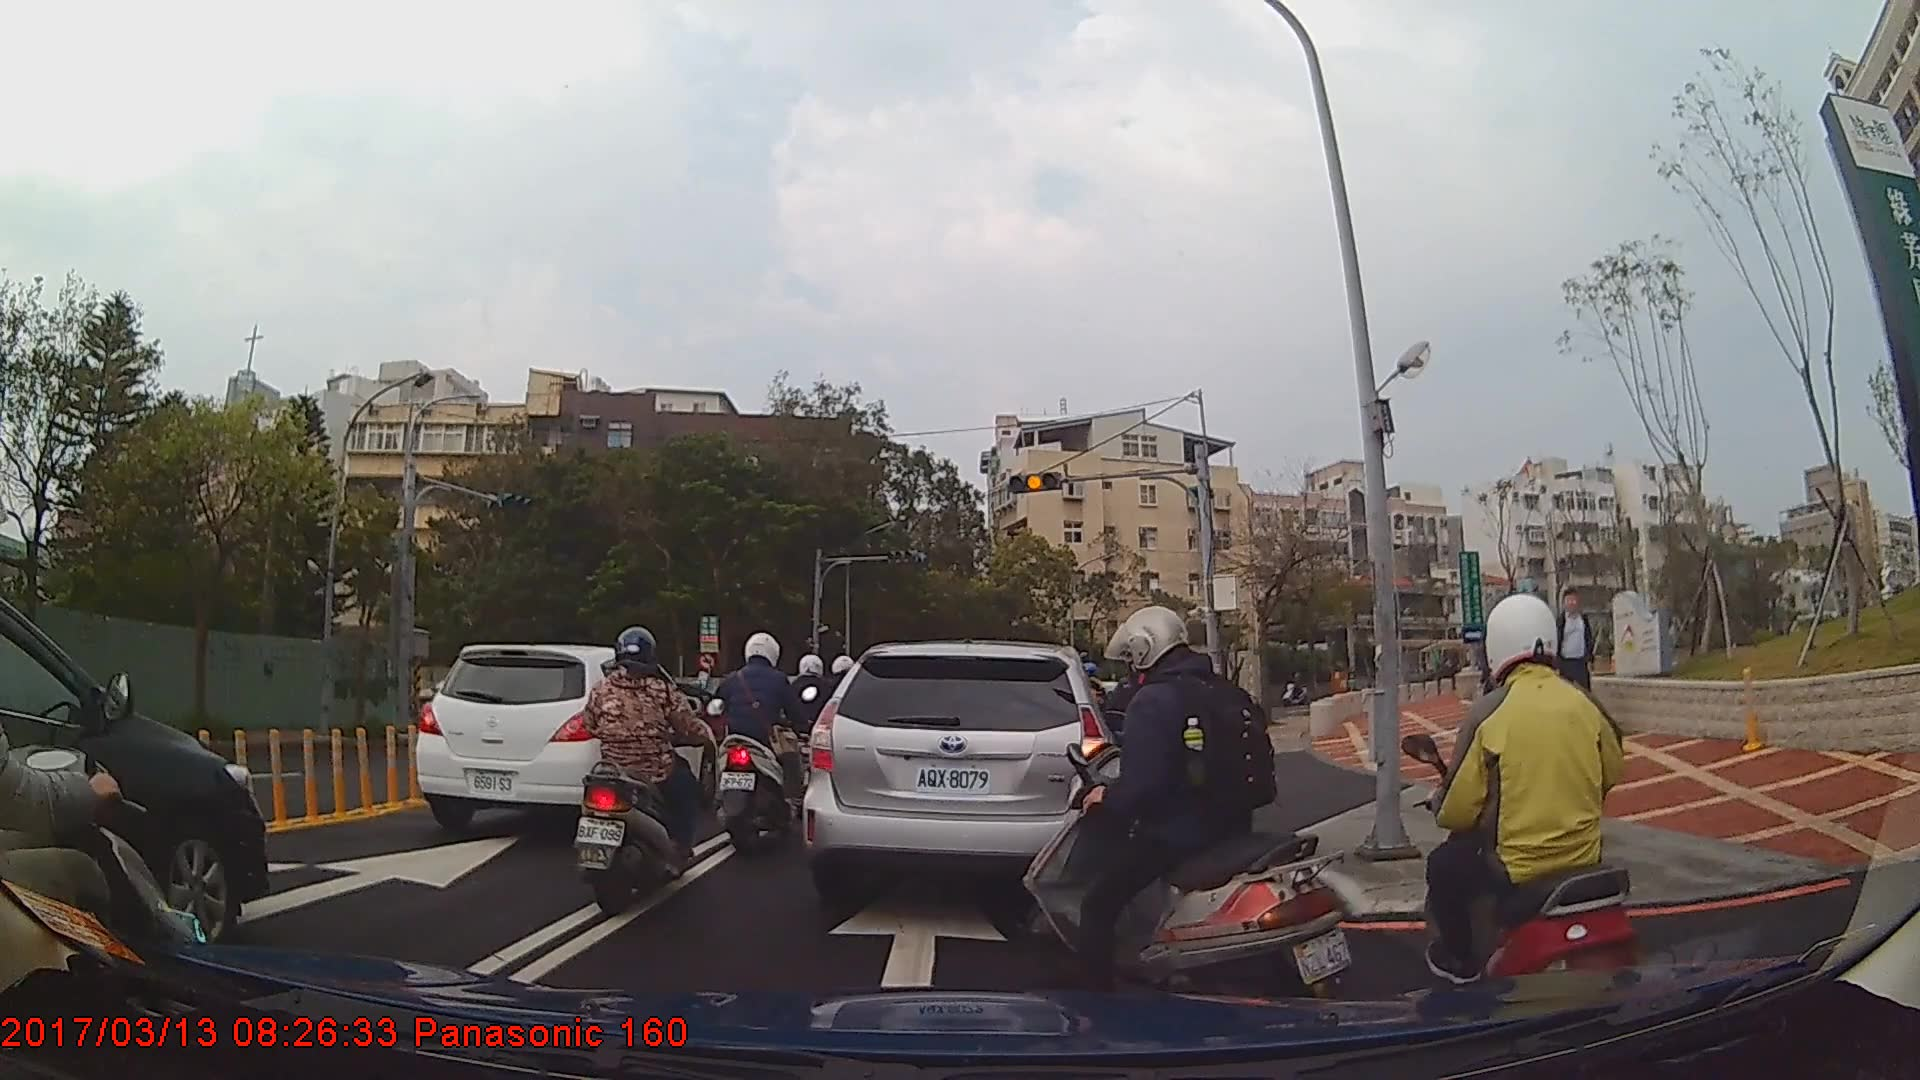pedestrian: (1555, 587, 1612, 744)
rider: (1019, 606, 1357, 1009), (1405, 588, 1645, 1044), (572, 623, 710, 918), (713, 629, 819, 852), (786, 655, 842, 804)
vehicle: (0, 600, 265, 957), (800, 637, 1119, 924), (412, 642, 717, 833)
